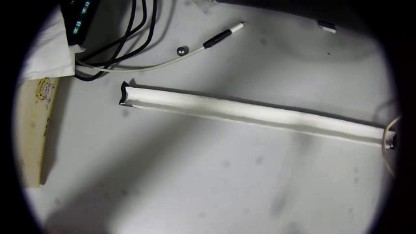gangzhu: (175, 44, 189, 57)
